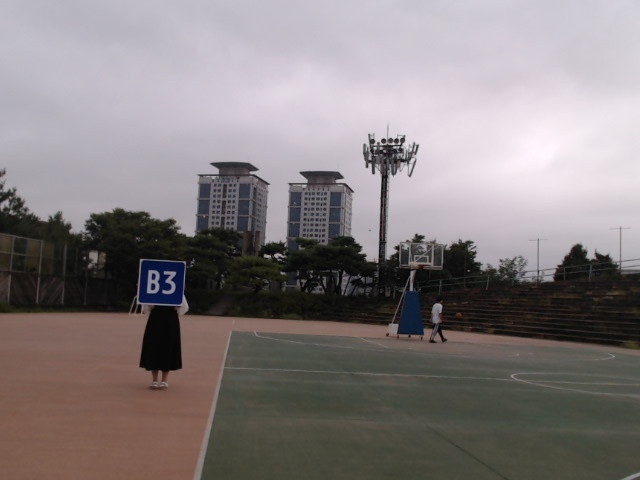delivery_b3: (139, 258, 185, 305)
